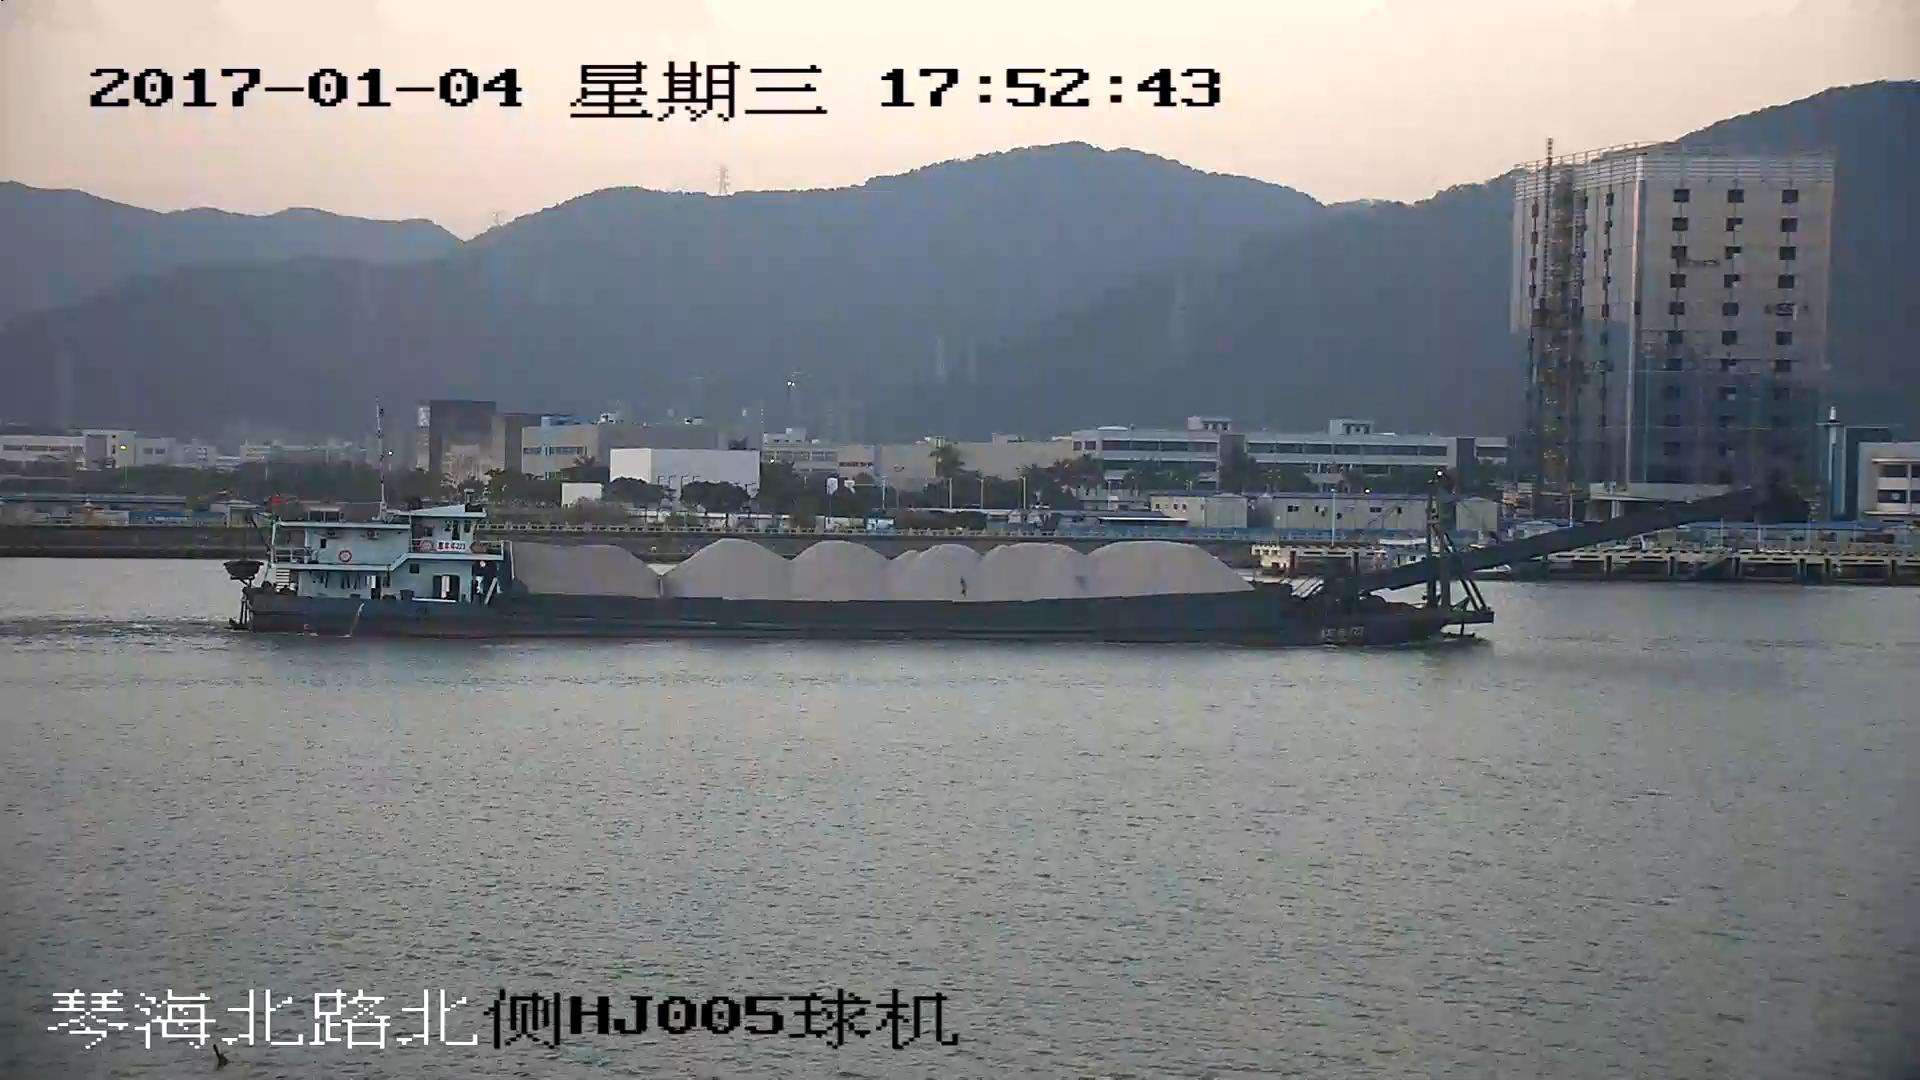ore carrier: (235, 494, 1740, 642)
